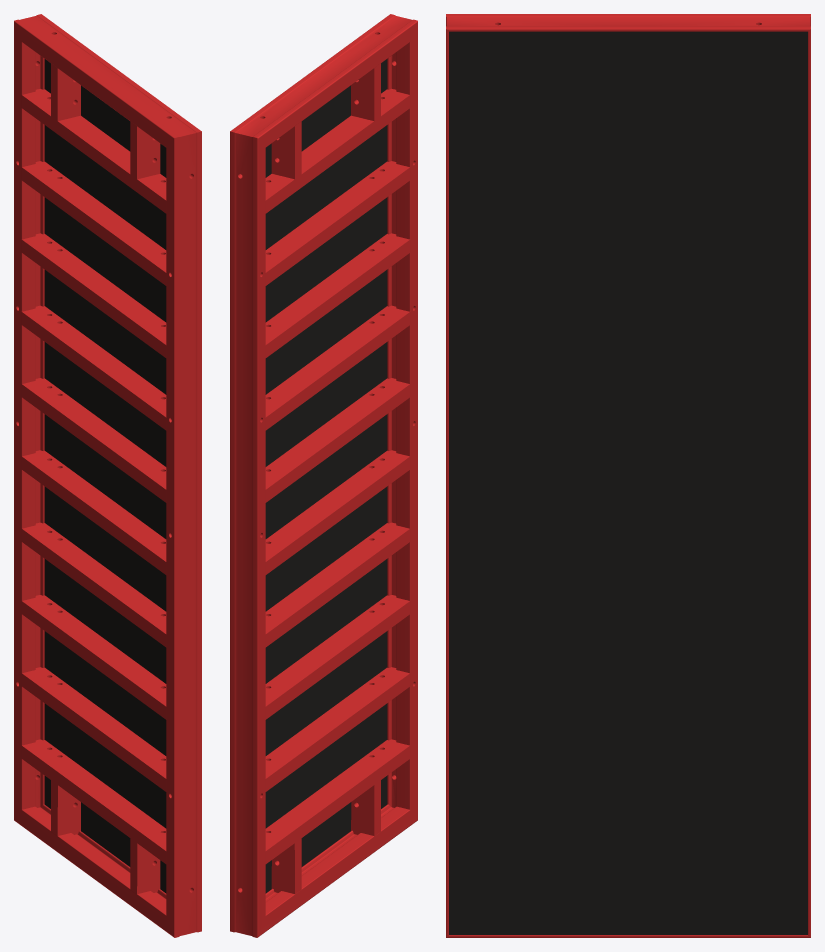
3 renders of one model, left to right at view 1: azimuth 30°, elevation 25°; view 2: azimuth 150°, elevation 25°; view 3: azimuth 270°, elevation 25°, orthographic. The views are drawn at different scales.
Visible parts, largest first — view 1: TR4330x120_object; view 2: TR4330x120_object; view 3: TR4330x120_object.
Boxes of the visible parts, x1,y1,x2,y2 form: TR4330x120_object: (14,14,201,937); TR4330x120_object: (230,14,417,937); TR4330x120_object: (446,14,810,937).
Bounding box in the file's own units: 0.1201 × 3.3 × 1.2.
1 material, 1 textured.
